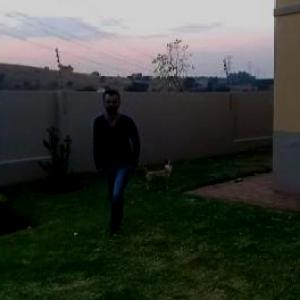follow: (94, 82, 146, 237)
